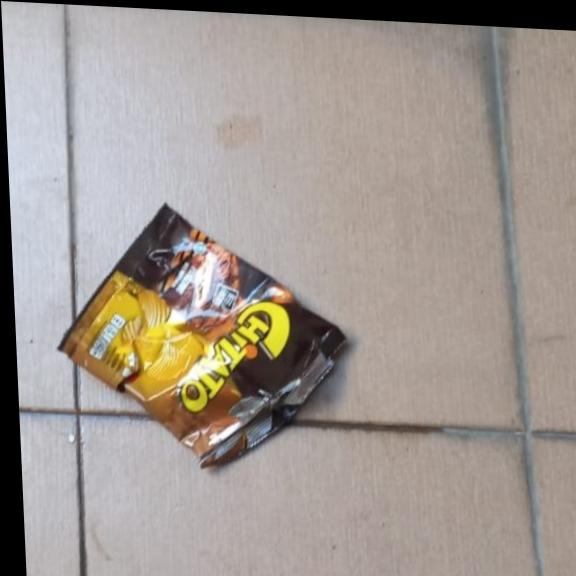Plastik: (49, 195, 352, 476)
